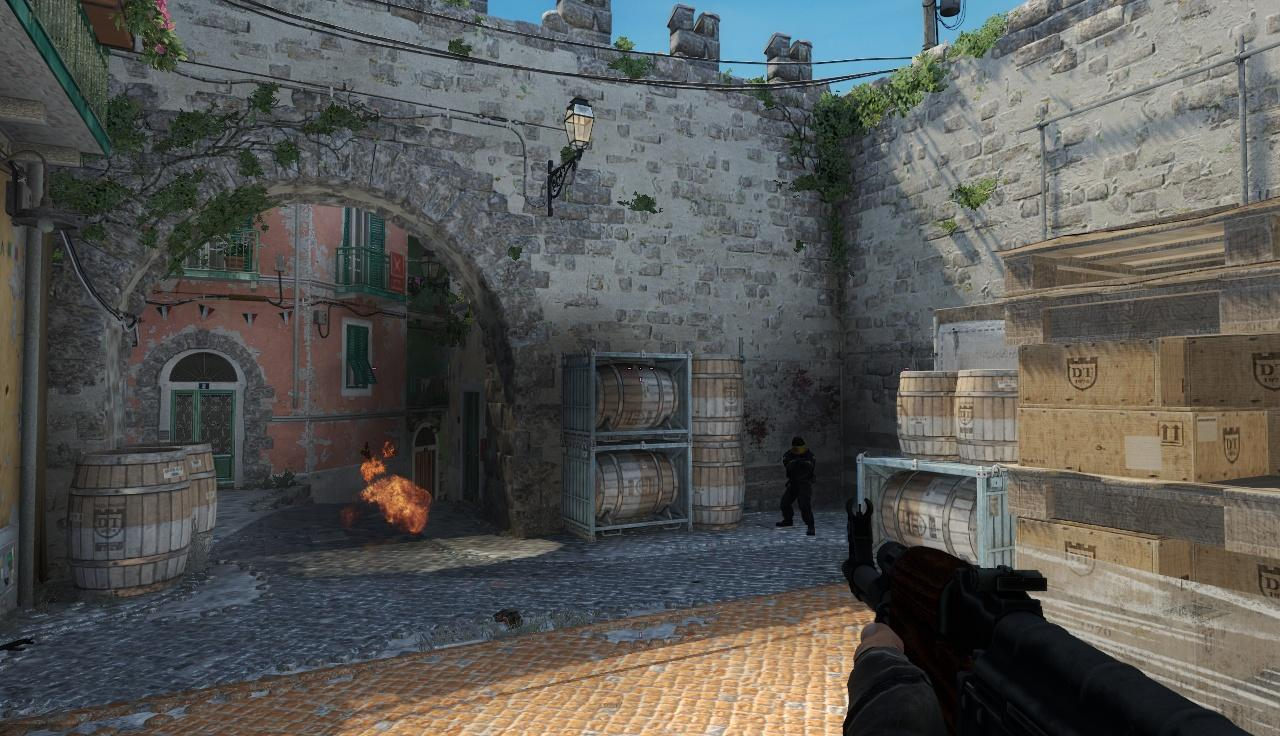ct: (780, 437, 814, 528)
cthead: (791, 438, 806, 455)
rifle: (848, 507, 1280, 736)
